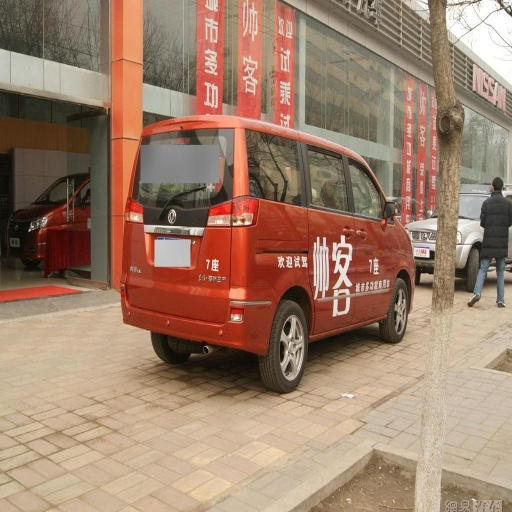back_bumper: (123, 302, 276, 350)
trunk: (127, 186, 310, 327)
